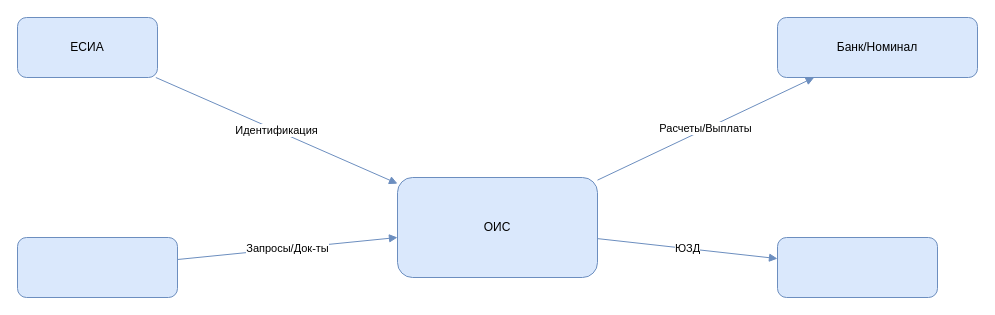
Some shapes in this 995 by 315 pixel diagram are drawn without their labels. Each missing label, with the centre of its shape:
"Пользователи" belongs at pixel 97 267.
"ЭДО" belongs at pixel 857 267.
